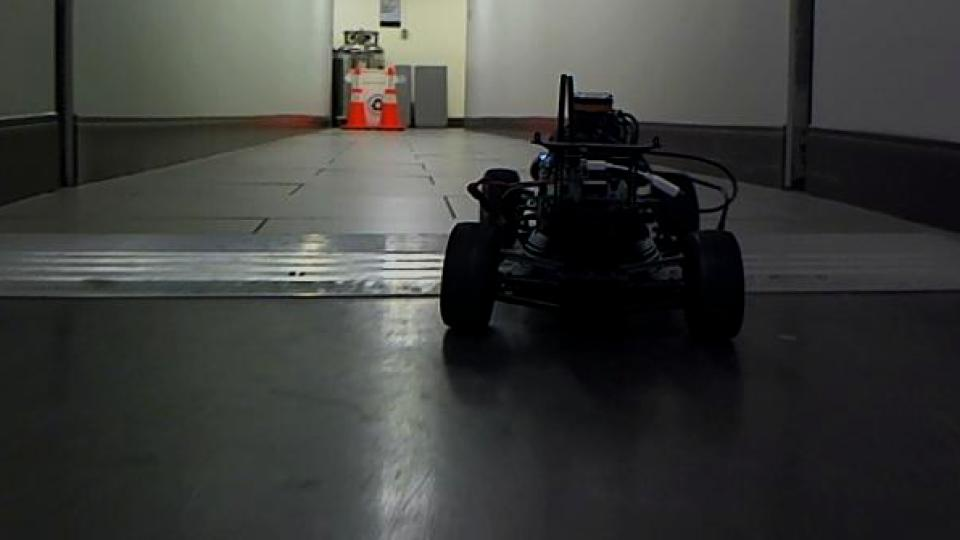car: (435, 71, 749, 346)
